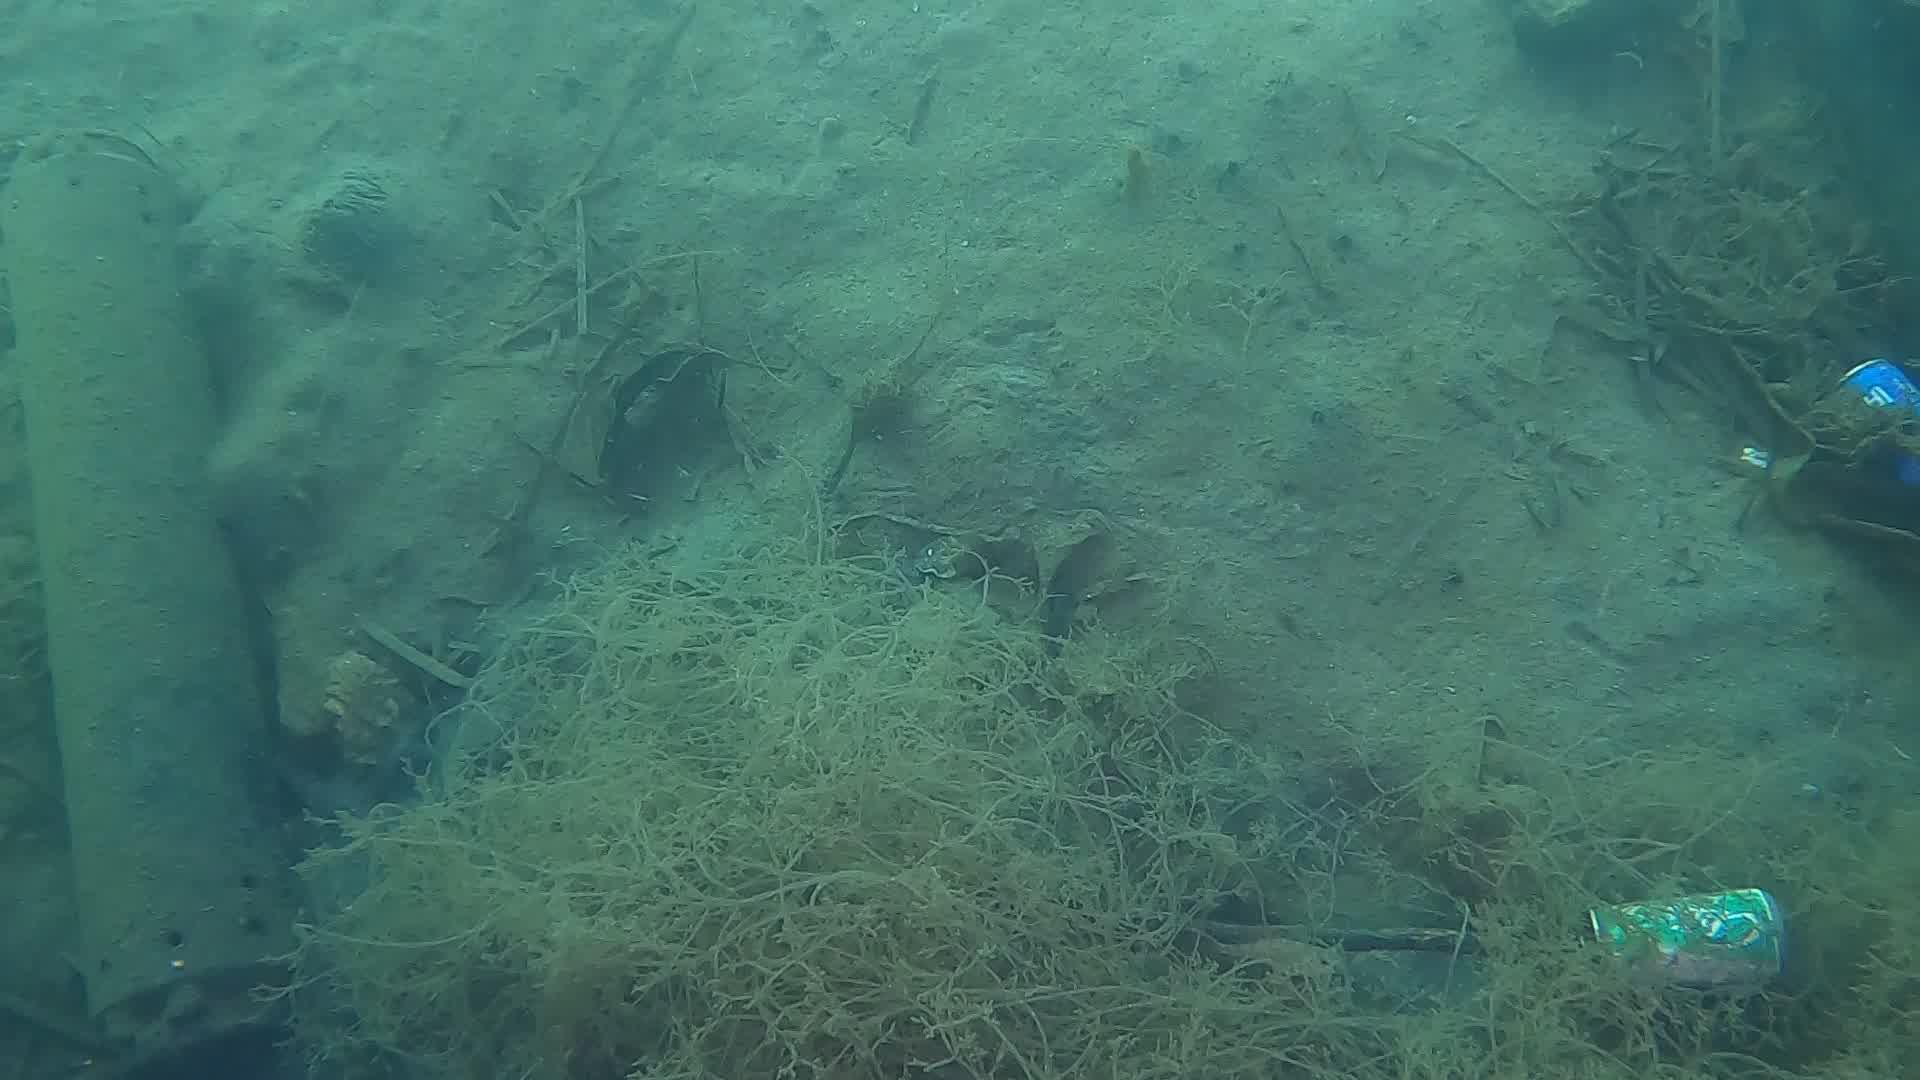eel fish trap: (0, 119, 307, 1044)
